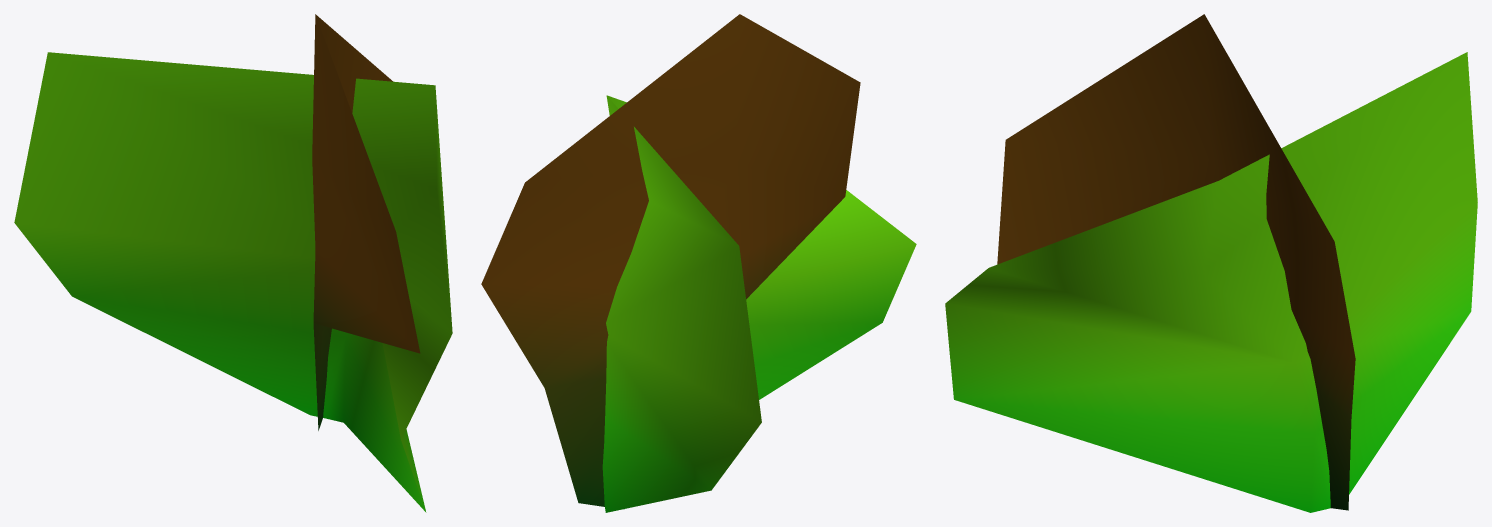
The model's file is Var1Hi5.fbx.
The picture shows the model from 3 angles, left to right: view 1: azimuth 30°, elevation 25°; view 2: azimuth 150°, elevation 25°; view 3: azimuth 270°, elevation 25°; orthographic projection.
Visible parts, largest first — view 1: bend1; view 2: bend1; view 3: bend1.
Part boxes in pixels (box(x1,y1,x2,y2)): bend1: box(14, 14, 452, 512); bend1: box(481, 14, 916, 512); bend1: box(945, 14, 1477, 512).
Size of the model in its own units: 1.04 by 1.36 by 1.42.
